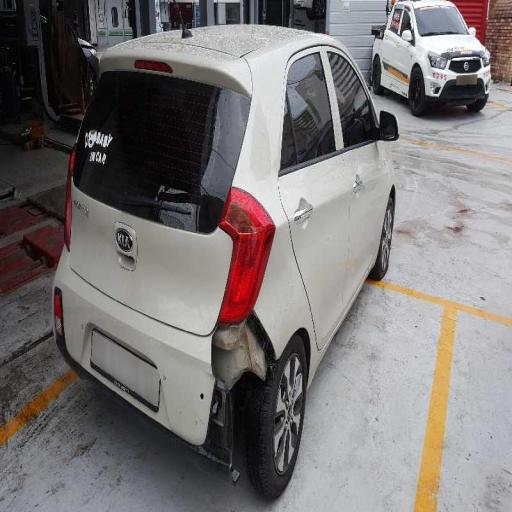broken: (199, 290, 313, 478)
